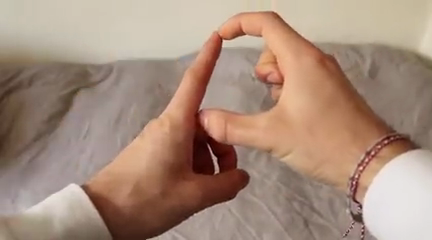D: (110, 1, 369, 233)
